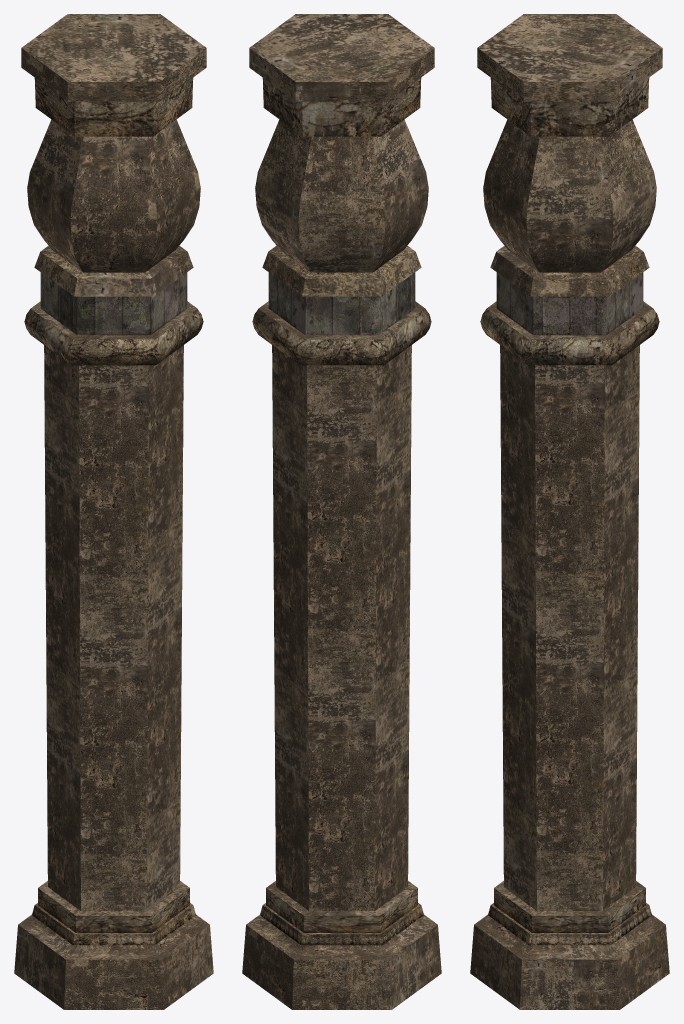
The model's file is materials_5_pillar_long_3.fbx.
3 renders of one model, left to right at view 1: azimuth 30°, elevation 25°; view 2: azimuth 150°, elevation 25°; view 3: azimuth 270°, elevation 25°, orthographic.
Parts seen in each view (by area): view 1: materials_5_pillar_long_3; view 2: materials_5_pillar_long_3; view 3: materials_5_pillar_long_3.
Boxes of the visible parts, x1,y1,x2,y2 form: materials_5_pillar_long_3: (14,14,213,1009); materials_5_pillar_long_3: (242,14,441,1009); materials_5_pillar_long_3: (470,14,669,1009).
Size of the model in its own units: 36.39 by 215 by 42.02.
